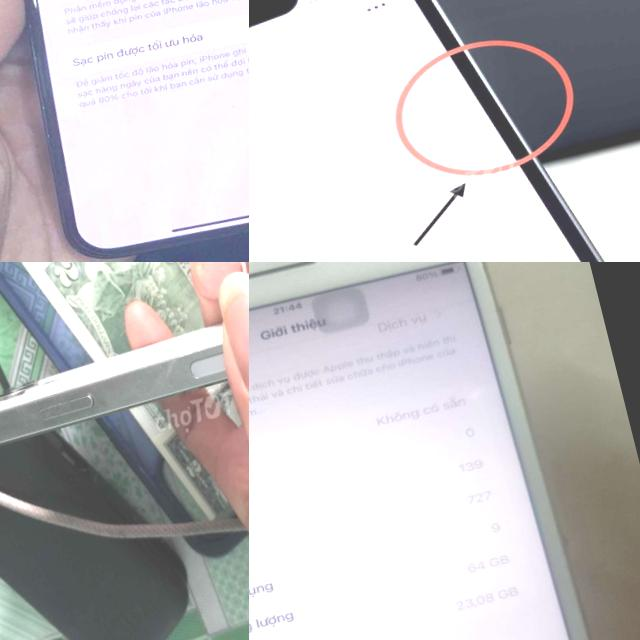gen_12_13: (249, 0, 640, 262), (0, 262, 249, 483)
gen_14: (0, 0, 249, 262)
gen_7_8: (249, 262, 636, 640)
scratch: (0, 375, 104, 457), (249, 262, 381, 287), (146, 346, 186, 396)
screen_defect: (368, 8, 566, 214)
